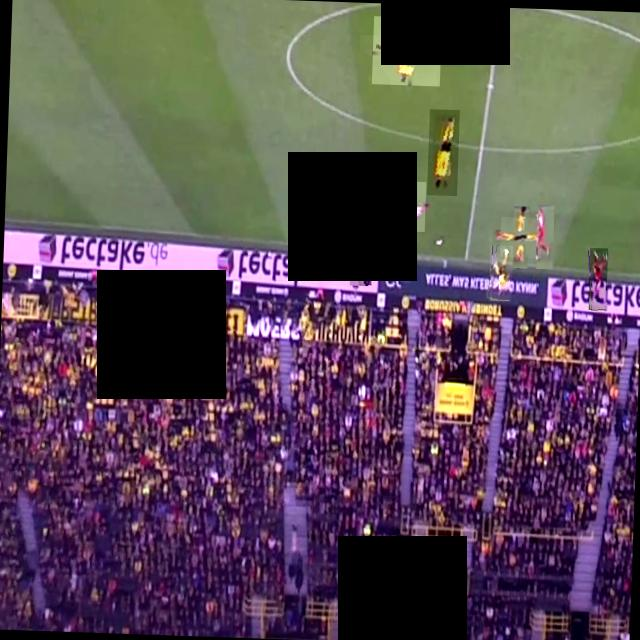ball: (429, 234, 448, 252)
soccer-player: (370, 15, 440, 85), (372, 178, 425, 230), (426, 108, 458, 194), (498, 216, 540, 256), (487, 243, 512, 300), (348, 224, 369, 285), (586, 246, 606, 309), (535, 204, 553, 268)
